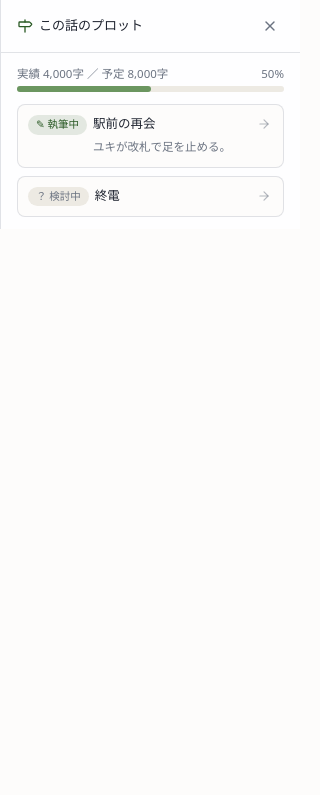
PlotPeek（この話のプロット） › 詳細を開いている間は一覧を出さず、戻ると一覧だけになる
Click the button with aria-label "「駅前の再会」の詳細".
click(171, 136)  # box [93, 115, 249, 157]
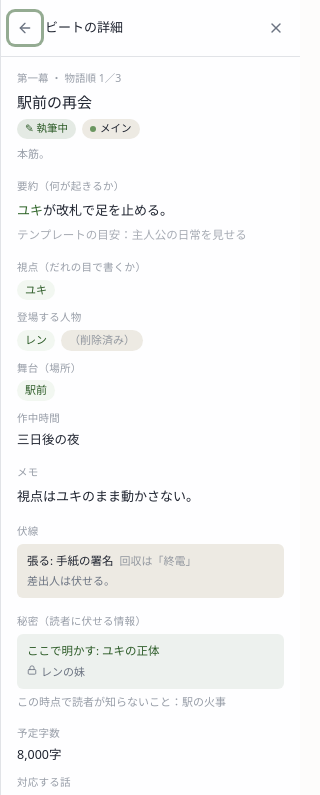
Check: the element "この話のプロット" is gone
Click the button named "ビートの一覧へ戻る".
click(25, 28)  # box [9, 12, 41, 44]
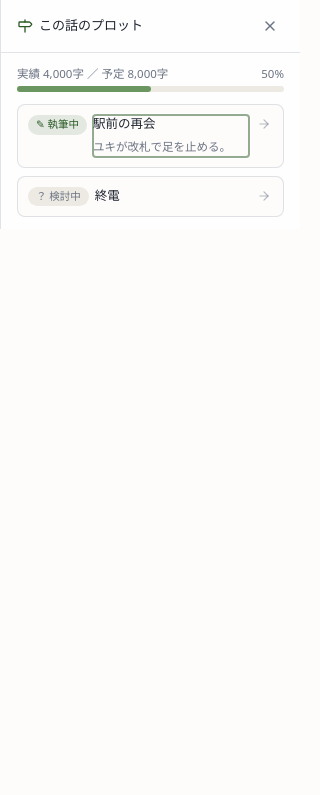
Check: the text "ビートの詳細" is gone
Check: the element "この話のプロット" is shown, box [0, 0, 300, 229]
